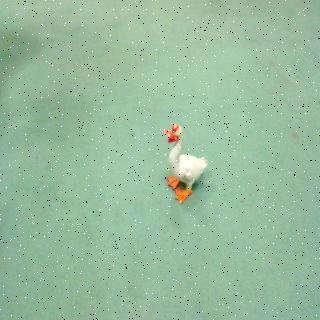duck: (159, 116, 214, 209)
